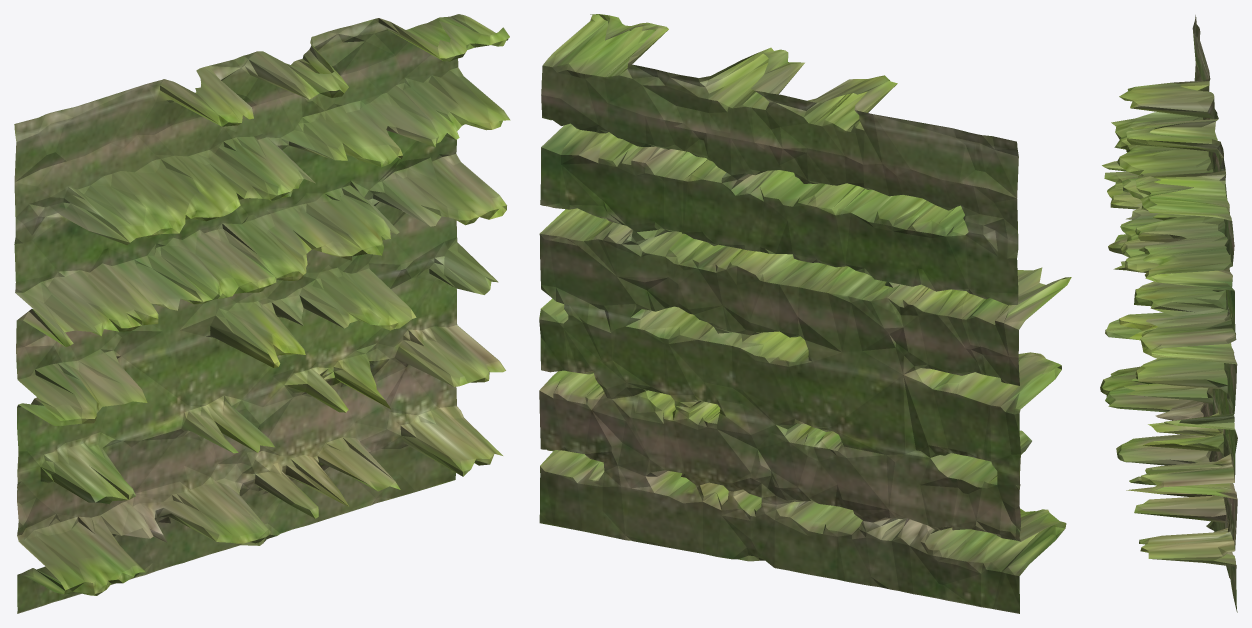
The model's file is map_120_70.obj.
3 renders of one model, left to right at view 1: azimuth 30°, elevation 25°; view 2: azimuth 150°, elevation 25°; view 3: azimuth 270°, elevation 25°, orthographic. The views are drawn at different scales.
Visible parts, largest first — view 1: grp1; view 2: grp1; view 3: grp1.
Part boxes in pixels (x1,y1,x2,y2): grp1: (14, 14, 510, 613); grp1: (539, 14, 1071, 613); grp1: (1100, 15, 1237, 612).
Size of the model in its own units: 10 by 10 by 3.06.
1 material, 1 textured.
